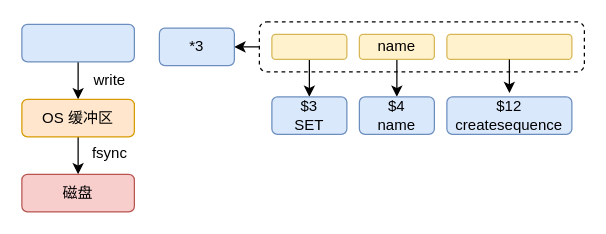
Image size: 606x234. Some labels were removed from this diagram. The shapes that lost their labels are listed below. From the top down, each one's box as (x1, y1, x2, y2) in pixels, then its label:
(21, 23, 134, 62): AOF 缓冲区
(271, 33, 347, 59): SET
(446, 33, 572, 59): createsequence
